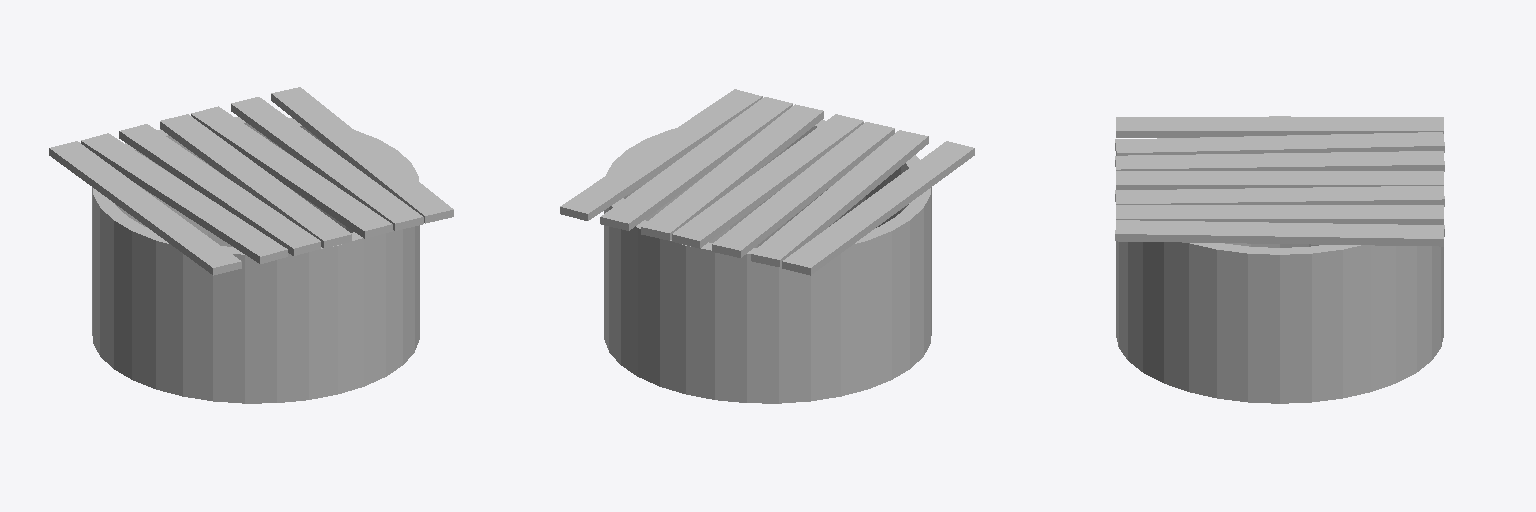
File: Well.obj
3 views of the same model, side by side, from view 1: azimuth 30°, elevation 25°; view 2: azimuth 150°, elevation 25°; view 3: azimuth 270°, elevation 25° (orthographic).
Parts seen in each view (by area): view 1: Well_Cylinder; view 2: Well_Cylinder; view 3: Well_Cylinder.
Boxes of the visible parts, x1=… form: Well_Cylinder: x1=49, y1=87, x2=453, y2=403; Well_Cylinder: x1=560, y1=89, x2=974, y2=403; Well_Cylinder: x1=1115, y1=116, x2=1444, y2=403.
Bounding box in the file's own units: 4 × 2.11 × 4.02.